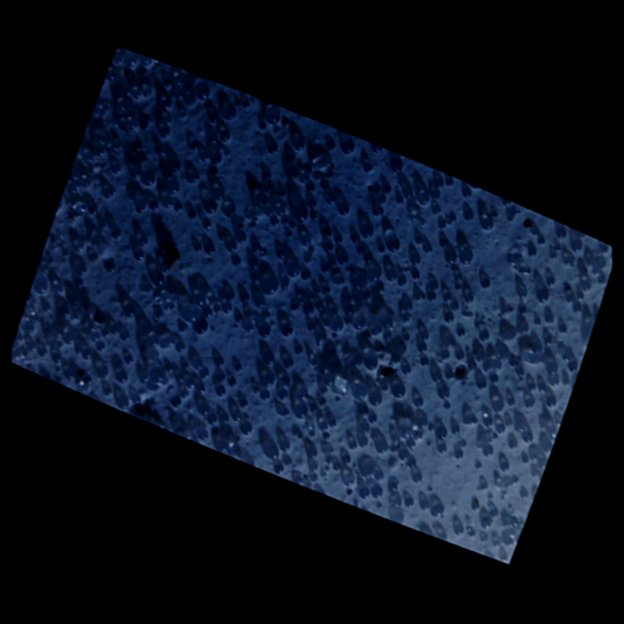GrassBeadSeg: (144, 56, 427, 204), (119, 291, 421, 398), (436, 237, 581, 399), (179, 108, 428, 196), (114, 101, 306, 208), (270, 108, 400, 252), (171, 189, 285, 336), (73, 262, 391, 313), (346, 138, 473, 263), (293, 403, 442, 503), (240, 312, 329, 462), (149, 315, 341, 382), (40, 171, 155, 279), (235, 312, 329, 440), (378, 325, 491, 427), (193, 320, 277, 446), (128, 53, 279, 123), (218, 305, 322, 404), (103, 66, 180, 198), (182, 90, 296, 179), (226, 104, 308, 221), (278, 124, 383, 215), (429, 397, 502, 516), (359, 383, 449, 475), (368, 353, 504, 412), (232, 375, 333, 446), (79, 261, 198, 321), (140, 58, 170, 292), (44, 347, 233, 384), (400, 449, 490, 523), (267, 160, 319, 282), (408, 421, 547, 466), (232, 256, 336, 315), (32, 343, 136, 402), (420, 471, 499, 548), (386, 270, 441, 378), (75, 278, 187, 331), (337, 189, 413, 264), (484, 215, 548, 302), (127, 75, 172, 198), (326, 373, 370, 497), (256, 141, 334, 209), (209, 323, 397, 351), (199, 317, 274, 386), (131, 77, 182, 177), (74, 172, 144, 244), (323, 386, 382, 471), (101, 342, 201, 392), (47, 303, 129, 363), (210, 308, 292, 368), (156, 100, 249, 152), (326, 358, 372, 462), (410, 187, 471, 264), (242, 99, 306, 172), (419, 446, 492, 510), (134, 87, 217, 143), (452, 337, 491, 455), (234, 215, 311, 274), (319, 421, 415, 468), (162, 131, 217, 207), (191, 397, 325, 428), (250, 259, 333, 309), (333, 203, 383, 284), (297, 303, 380, 351), (265, 262, 301, 372), (315, 418, 425, 453), (196, 422, 289, 463), (152, 239, 236, 284), (198, 387, 269, 440), (476, 439, 513, 540), (40, 346, 222, 366), (328, 448, 393, 502), (96, 341, 182, 381), (368, 290, 409, 373), (27, 342, 88, 395), (400, 499, 517, 526), (253, 244, 326, 287), (111, 71, 169, 123), (412, 470, 463, 529), (187, 277, 278, 310), (189, 375, 227, 452), (280, 440, 353, 480), (406, 302, 485, 338), (492, 360, 556, 404), (195, 87, 223, 187), (402, 278, 489, 310), (397, 193, 447, 247), (26, 304, 118, 333), (258, 295, 350, 324), (178, 340, 224, 396), (364, 158, 403, 224), (85, 175, 158, 210), (393, 499, 509, 521), (299, 345, 326, 439), (459, 431, 553, 458), (463, 210, 565, 234), (264, 401, 306, 459), (501, 330, 533, 406), (310, 210, 364, 255), (280, 440, 353, 472), (454, 417, 512, 457), (285, 152, 311, 241), (279, 183, 313, 251), (393, 481, 475, 509), (174, 112, 218, 162), (217, 370, 251, 434), (293, 153, 310, 279), (484, 489, 525, 541), (171, 396, 233, 430), (135, 293, 205, 323), (308, 320, 327, 430), (76, 239, 214, 254), (535, 226, 606, 255), (555, 228, 590, 286), (34, 279, 73, 330), (343, 406, 368, 485), (213, 304, 242, 371), (500, 490, 527, 561), (286, 228, 335, 267), (427, 423, 477, 461), (328, 273, 361, 330), (537, 236, 597, 267), (459, 248, 535, 272), (28, 307, 135, 324), (174, 166, 215, 210), (446, 402, 490, 443), (292, 260, 381, 280), (300, 172, 348, 209), (437, 442, 509, 466), (303, 272, 343, 315), (35, 314, 80, 352), (116, 372, 181, 398), (439, 427, 480, 468), (69, 169, 139, 193), (342, 414, 376, 463), (171, 177, 217, 213), (156, 272, 205, 305), (61, 329, 107, 364), (78, 202, 121, 239), (370, 271, 395, 334), (295, 344, 326, 394), (24, 307, 82, 333), (160, 94, 195, 137), (448, 217, 493, 250), (325, 193, 347, 260), (268, 142, 310, 177), (499, 443, 551, 471), (185, 356, 219, 398), (362, 422, 446, 439), (500, 361, 531, 407), (332, 315, 365, 358), (418, 189, 438, 259), (445, 336, 460, 429), (136, 362, 170, 403), (306, 383, 405, 397), (224, 121, 263, 156), (263, 170, 288, 224), (128, 96, 170, 128), (547, 362, 577, 406), (406, 312, 450, 341), (119, 329, 147, 374), (540, 252, 574, 289), (271, 123, 297, 171), (201, 85, 236, 120), (340, 139, 401, 159), (264, 170, 319, 192), (442, 219, 461, 282), (427, 500, 462, 534), (219, 131, 304, 145), (308, 438, 367, 458), (383, 437, 413, 476), (101, 327, 132, 364), (359, 405, 426, 422), (142, 87, 169, 128), (123, 86, 140, 151), (505, 416, 528, 464), (42, 253, 97, 273), (185, 377, 206, 429), (251, 258, 269, 318), (283, 206, 310, 246), (202, 402, 232, 438), (87, 142, 136, 164), (282, 117, 303, 168), (383, 186, 436, 206), (364, 162, 406, 186), (371, 443, 395, 485), (484, 356, 516, 387), (467, 492, 489, 536), (166, 324, 210, 346), (188, 152, 221, 181), (374, 451, 408, 479), (303, 295, 352, 314), (396, 434, 409, 505), (499, 455, 526, 489), (525, 279, 590, 293), (72, 241, 115, 262), (282, 303, 311, 334), (104, 248, 143, 271), (367, 381, 403, 405), (65, 347, 92, 379), (95, 364, 161, 377), (509, 287, 526, 337), (266, 198, 313, 216), (286, 407, 333, 425), (188, 129, 230, 149), (496, 479, 506, 562), (292, 294, 304, 363), (93, 205, 118, 238), (140, 120, 164, 154), (244, 232, 260, 283), (146, 169, 180, 193), (218, 230, 240, 266), (480, 440, 489, 528), (234, 362, 260, 392), (52, 284, 63, 354), (116, 121, 148, 145), (181, 360, 202, 396), (352, 413, 373, 449), (192, 137, 221, 163), (222, 302, 253, 326), (348, 265, 379, 289), (120, 55, 136, 101), (84, 154, 120, 174), (134, 200, 146, 260), (210, 187, 265, 200), (137, 312, 158, 346), (128, 291, 170, 308), (529, 432, 556, 458), (431, 177, 450, 213), (69, 171, 85, 212), (275, 143, 284, 215), (281, 407, 292, 465), (278, 388, 289, 446), (364, 163, 371, 254), (259, 351, 272, 400), (334, 384, 387, 396), (310, 402, 336, 426), (389, 480, 412, 507), (291, 303, 314, 330), (357, 355, 377, 386), (151, 334, 185, 352), (73, 185, 94, 214), (448, 292, 469, 321), (240, 273, 261, 302), (479, 508, 498, 540), (294, 139, 319, 163), (185, 96, 218, 114), (421, 371, 440, 402), (370, 430, 398, 451), (359, 224, 398, 239), (146, 85, 170, 109), (388, 485, 432, 498), (310, 461, 340, 480), (380, 331, 407, 352), (358, 436, 414, 446), (90, 327, 130, 341), (409, 364, 422, 407), (331, 333, 339, 401), (275, 463, 302, 483), (82, 329, 100, 359), (375, 442, 387, 487), (226, 193, 267, 206), (263, 302, 322, 311), (202, 217, 226, 239), (79, 252, 94, 287), (356, 312, 393, 326), (535, 420, 544, 477), (208, 197, 235, 216), (360, 289, 375, 323), (352, 305, 374, 328), (160, 309, 184, 330), (234, 290, 252, 318), (305, 211, 316, 255), (294, 462, 317, 483), (254, 243, 286, 258), (400, 176, 443, 187), (309, 179, 325, 208), (358, 424, 385, 441), (56, 282, 69, 317), (468, 277, 486, 302), (129, 68, 179, 77), (200, 303, 232, 317), (259, 322, 291, 336), (440, 213, 457, 239), (444, 247, 471, 263), (263, 324, 274, 363), (200, 151, 217, 176), (476, 362, 491, 390), (288, 377, 307, 399), (540, 344, 554, 373), (351, 385, 380, 399), (590, 257, 605, 284), (429, 402, 449, 422), (488, 428, 493, 508), (530, 433, 551, 452), (188, 209, 210, 227), (483, 482, 495, 515), (258, 116, 286, 130), (347, 455, 361, 483), (81, 177, 113, 189), (88, 374, 108, 393), (200, 142, 221, 160), (517, 322, 526, 364), (557, 349, 568, 383), (218, 408, 241, 424), (52, 353, 75, 369), (475, 331, 488, 359), (119, 370, 147, 383), (527, 323, 539, 353), (135, 197, 159, 212), (174, 201, 195, 218), (587, 245, 603, 267), (244, 382, 257, 408), (505, 517, 517, 545), (164, 78, 171, 125), (503, 423, 516, 448), (403, 188, 439, 197), (220, 440, 239, 457), (150, 283, 160, 315), (233, 377, 244, 406), (461, 186, 472, 215), (231, 410, 252, 425), (541, 236, 560, 252), (325, 141, 333, 179), (451, 423, 466, 443), (171, 161, 198, 172), (79, 345, 87, 382), (475, 481, 485, 510), (130, 91, 140, 120), (207, 241, 236, 251), (107, 72, 122, 91), (42, 264, 48, 311), (175, 360, 189, 380), (313, 384, 323, 412), (333, 194, 347, 214), (206, 412, 229, 424), (97, 141, 122, 152), (437, 212, 454, 228), (357, 245, 372, 263), (144, 237, 149, 291), (81, 385, 111, 394), (63, 305, 82, 319), (226, 289, 250, 300), (281, 215, 292, 238), (304, 254, 332, 263), (363, 485, 382, 498), (194, 359, 208, 376), (565, 239, 582, 253), (236, 216, 245, 242), (175, 90, 186, 111), (99, 136, 112, 153), (169, 359, 186, 372), (267, 206, 278, 226), (243, 309, 253, 331), (499, 519, 509, 541), (379, 194, 403, 203), (255, 208, 276, 218), (375, 431, 396, 441), (316, 286, 329, 302), (513, 420, 522, 443), (521, 421, 531, 441), (445, 438, 465, 448), (198, 404, 216, 415), (491, 417, 504, 432), (116, 82, 130, 95), (378, 185, 388, 203), (213, 372, 225, 387), (479, 351, 488, 370), (280, 376, 289, 394), (110, 147, 117, 170), (308, 180, 328, 188), (549, 242, 558, 259), (436, 178, 453, 187), (324, 447, 332, 466), (531, 226, 538, 247), (550, 365, 557, 386), (568, 350, 575, 371), (314, 170, 330, 179), (105, 323, 115, 337), (310, 461, 317, 481), (200, 367, 205, 392), (97, 136, 103, 156), (532, 452, 537, 475), (255, 296, 265, 307), (391, 351, 401, 362), (216, 142, 228, 151), (262, 171, 270, 184), (329, 455, 337, 468), (592, 267, 602, 277), (169, 77, 179, 87), (510, 251, 520, 261), (118, 397, 127, 408), (360, 477, 371, 485), (430, 280, 438, 290), (418, 342, 426, 352), (351, 234, 359, 244), (443, 292, 451, 302), (455, 350, 463, 360), (527, 381, 535, 391), (545, 313, 553, 323), (533, 315, 541, 325), (546, 275, 554, 285), (487, 432, 498, 439), (411, 269, 419, 278), (401, 312, 409, 321), (383, 329, 391, 338), (375, 282, 383, 291), (420, 330, 428, 339), (415, 234, 423, 243), (456, 326, 464, 335), (445, 370, 453, 379), (516, 367, 524, 376), (490, 374, 498, 383), (537, 383, 545, 392), (500, 305, 508, 314), (398, 276, 405, 286), (428, 291, 435, 301), (377, 243, 384, 253), (323, 228, 330, 238), (334, 234, 341, 244), (324, 243, 331, 253), (321, 263, 328, 273), (424, 243, 431, 253), (421, 356, 428, 366), (441, 349, 448, 359), (468, 360, 475, 370), (507, 396, 514, 406), (558, 324, 565, 334), (576, 290, 583, 300), (31, 305, 35, 322), (518, 305, 525, 314), (573, 303, 580, 312), (452, 301, 458, 311), (544, 335, 550, 345), (562, 377, 569, 385), (567, 294, 573, 303), (487, 492, 493, 501), (319, 470, 326, 477), (296, 431, 303, 438), (56, 340, 63, 347), (194, 243, 201, 250), (260, 248, 267, 255), (281, 282, 288, 289), (315, 336, 322, 343), (486, 428, 494, 434), (308, 429, 314, 437), (232, 435, 240, 441), (63, 247, 69, 255), (163, 265, 169, 273), (375, 501, 381, 508), (346, 487, 352, 494), (152, 384, 158, 391), (162, 377, 168, 384), (84, 303, 90, 310), (47, 256, 53, 263), (246, 211, 252, 218), (290, 220, 296, 227), (313, 287, 319, 294), (363, 330, 369, 337), (330, 331, 336, 338), (499, 494, 505, 501), (453, 283, 459, 290), (445, 218, 451, 225), (436, 356, 442, 363), (507, 214, 513, 221), (464, 524, 470, 530), (463, 344, 469, 350), (55, 365, 60, 372), (169, 303, 174, 310), (491, 212, 496, 219)
